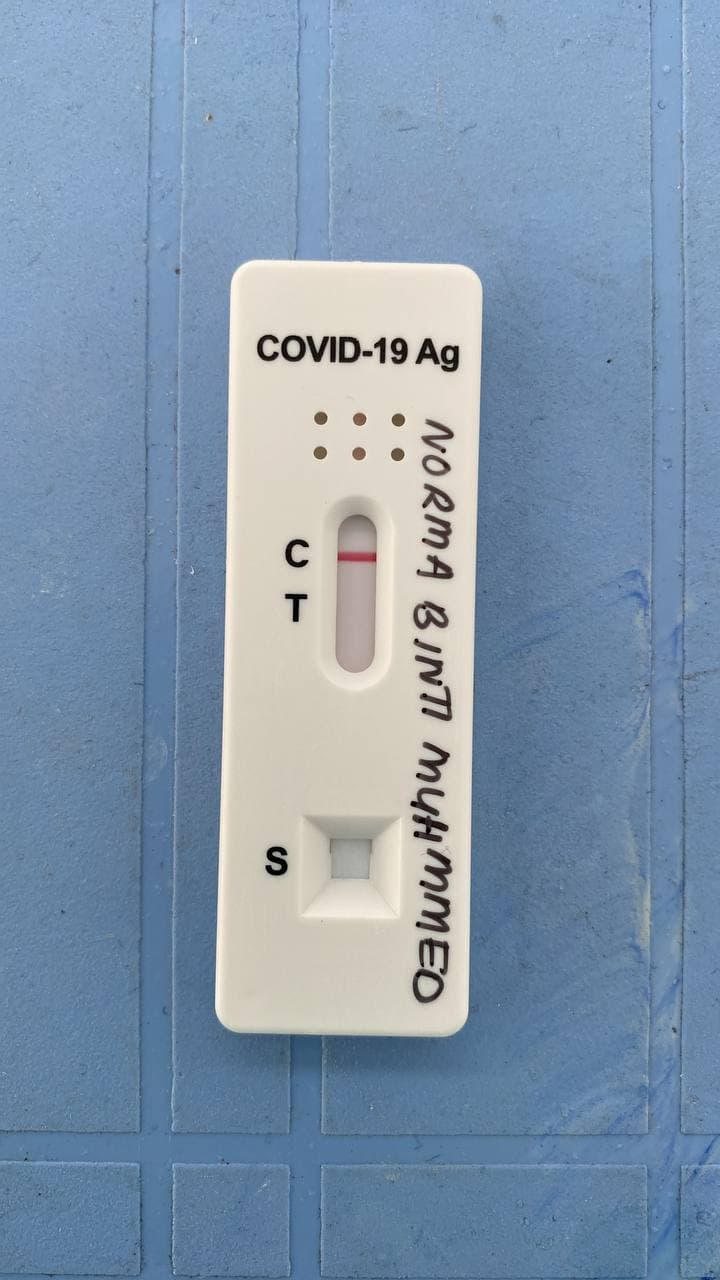rapid_test: (235, 255, 466, 1030)
